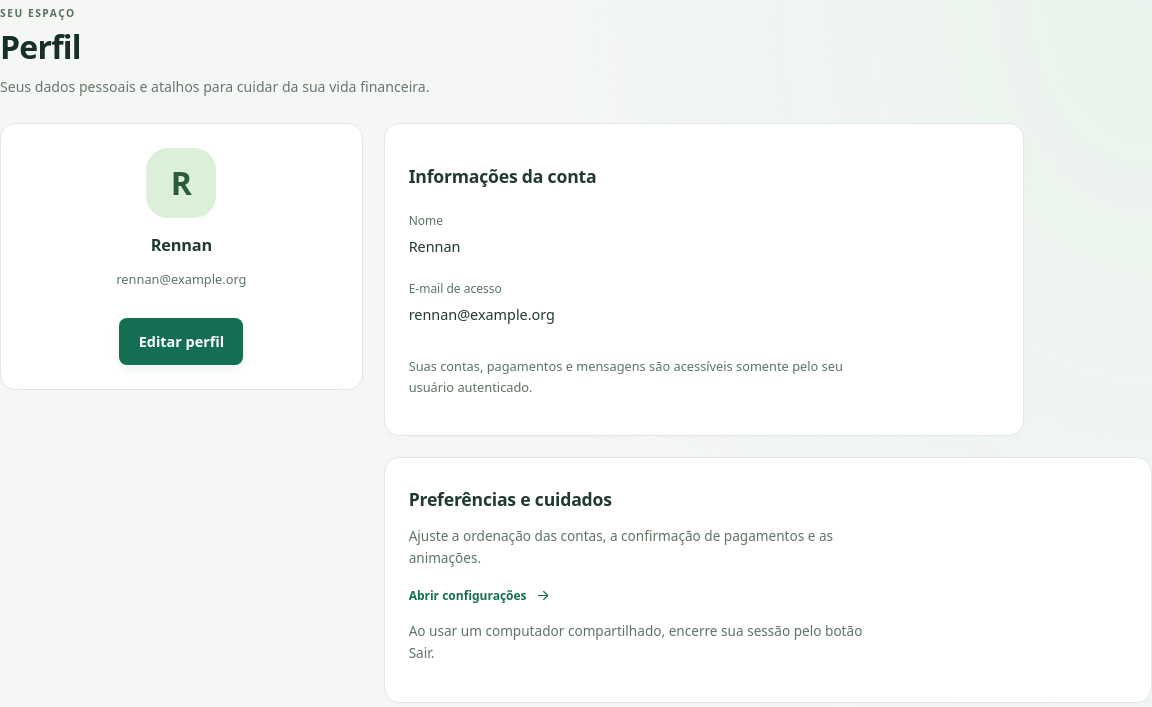
Test: perfil salva alterações reais e preserva o token da sessão
Click the button "Editar perfil": point(181, 342) [119,318,243,365]
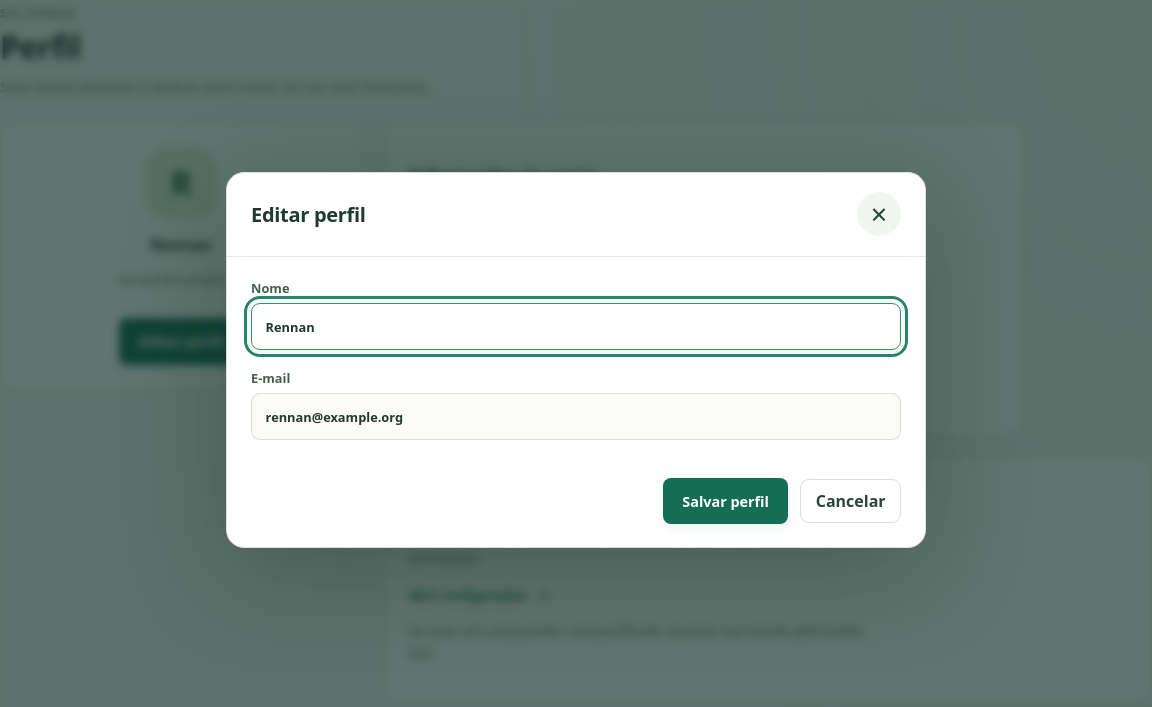
Replace the text in the field named "nome" with "Rennan Atualizado": point(576, 327) [251,303,901,350]
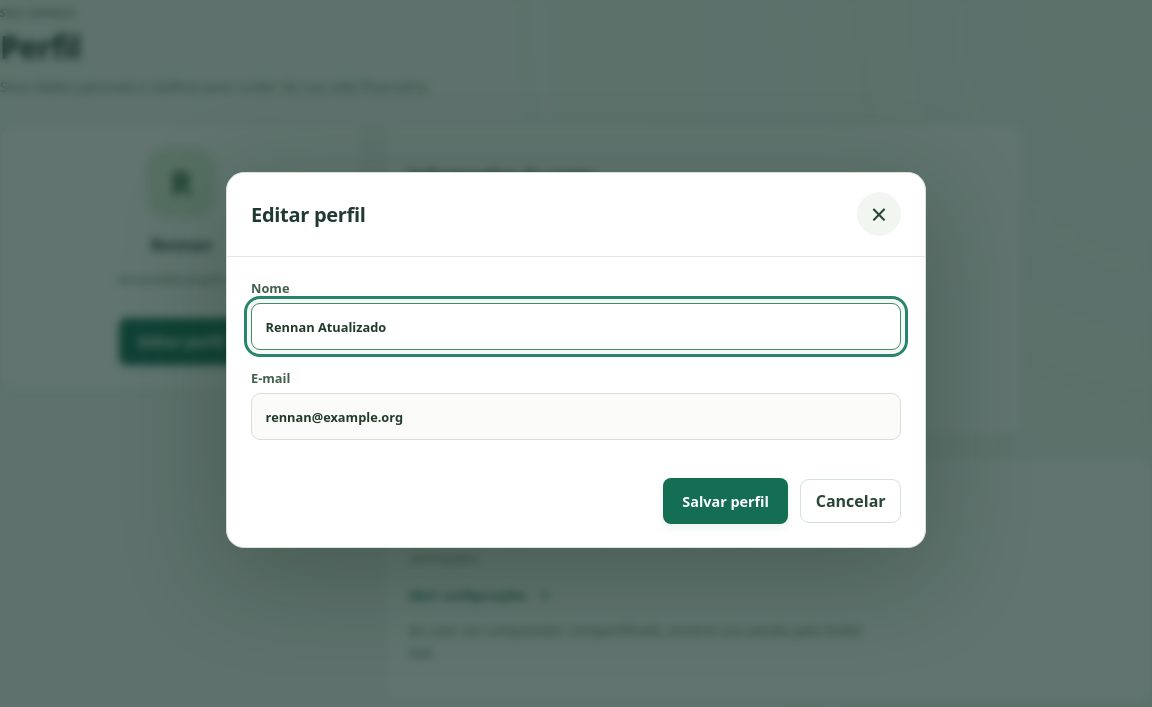
Submit the form, box [251,279,901,524]
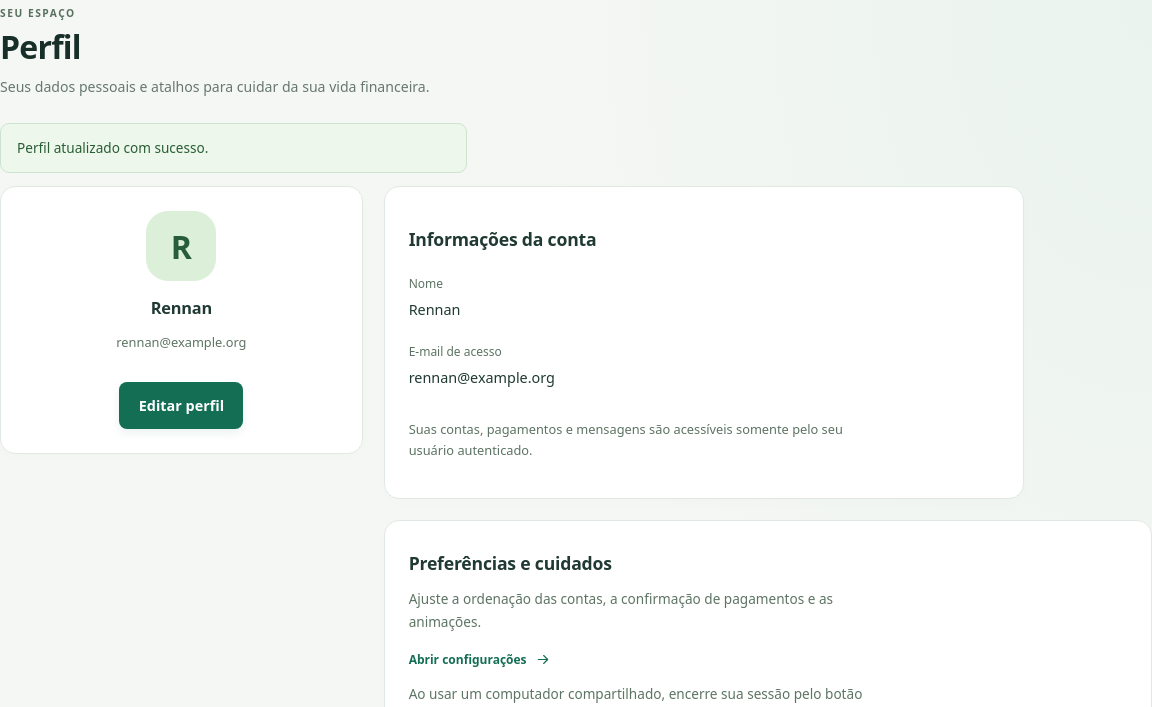
Check: the text "Perfil atualizado com sucesso" is shown, box [17,138,208,156]
